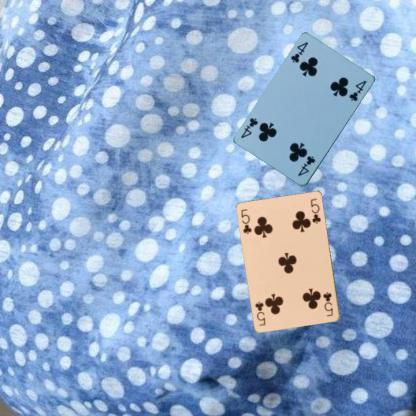4c: (288, 39, 310, 64), (295, 153, 317, 177)
5c: (239, 207, 253, 236), (321, 289, 334, 318)
